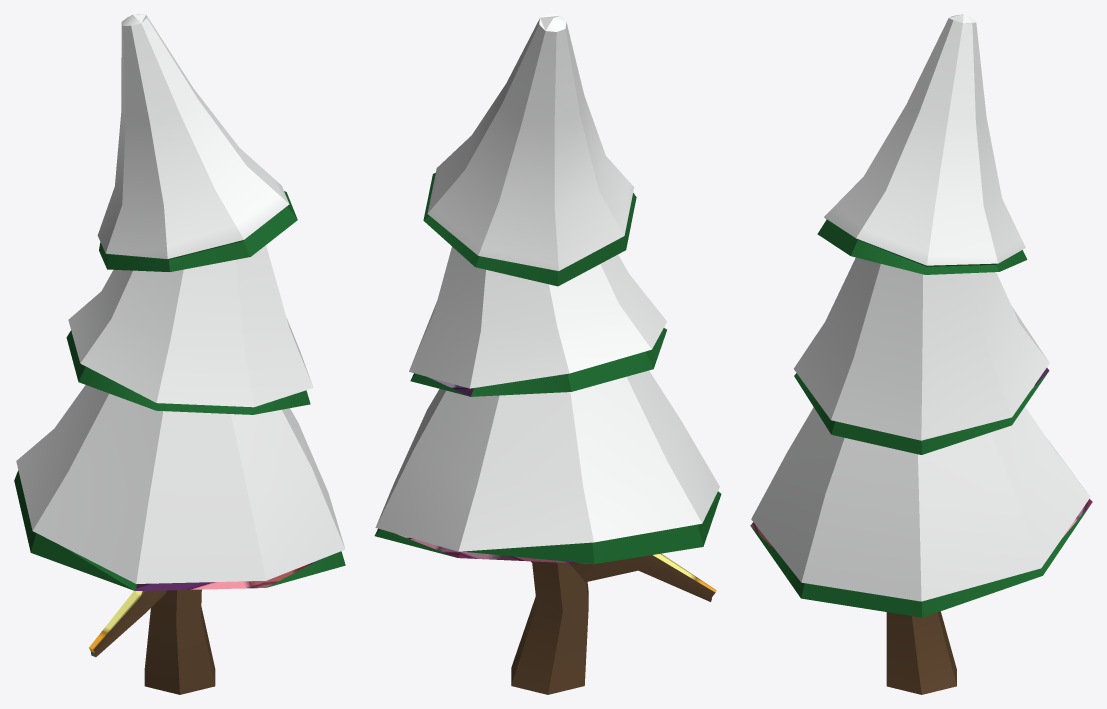
Rendered from SAPIN PETIT.fbx.
3 renders of one model, left to right at view 1: azimuth 30°, elevation 25°; view 2: azimuth 150°, elevation 25°; view 3: azimuth 270°, elevation 25°, orthographic. The views are drawn at different scales.
Parts seen in each view (by area): view 1: sapin neige; view 2: sapin neige; view 3: sapin neige.
Part boxes in pixels (x1=…): sapin neige: x1=14, y1=14, x2=345, y2=694; sapin neige: x1=374, y1=14, x2=721, y2=694; sapin neige: x1=750, y1=14, x2=1092, y2=694.
Size of the model in its own units: 180 by 378 by 180.
